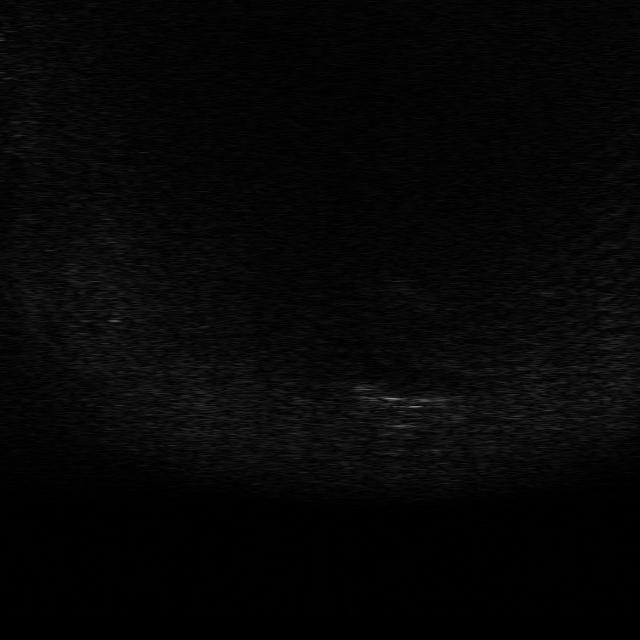plane: (349, 380, 459, 429)
